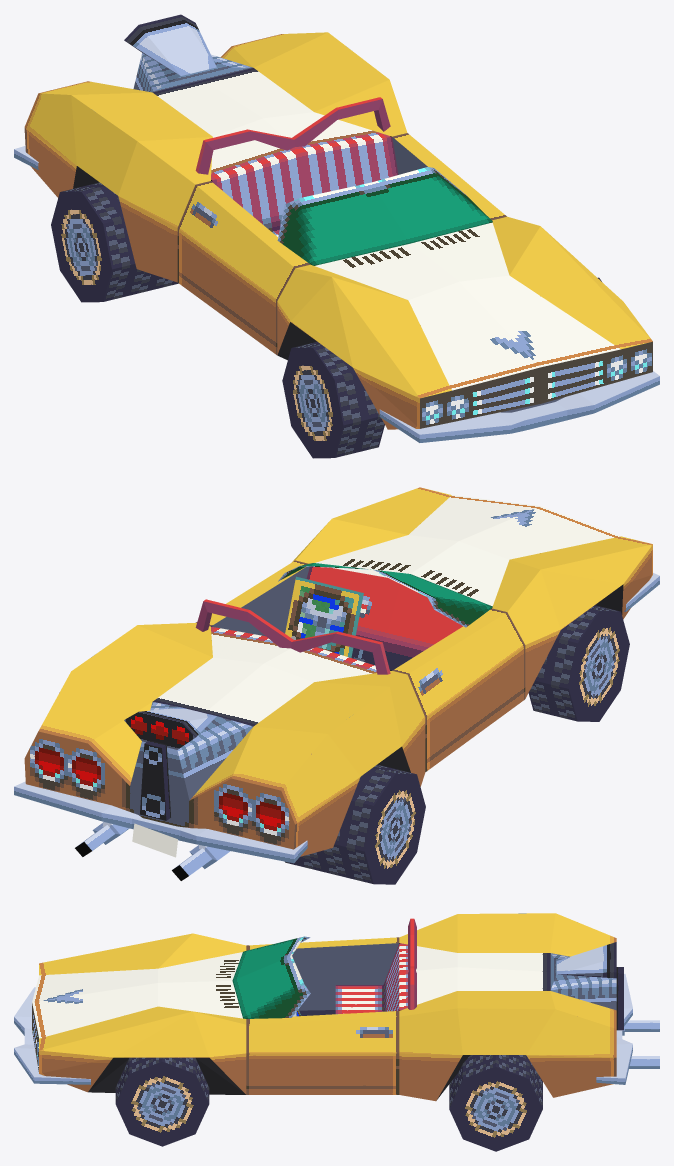
3 renders of one model, top to bottom at view 1: azimuth 30°, elevation 25°; view 2: azimuth 150°, elevation 25°; view 3: azimuth 270°, elevation 25°, orthographic. The views are drawn at different scales.
Parts seen in each view (by area): view 1: Cube.010; view 2: Cube.010; view 3: Cube.010.
Boxes of the visible parts, x1,y1,x2,y2 form: Cube.010: [14, 14, 659, 458]; Cube.010: [14, 487, 659, 884]; Cube.010: [14, 913, 659, 1151].
Bounding box in the file's own units: 1.82 × 1.03 × 4.22.
1 material, 1 textured.
